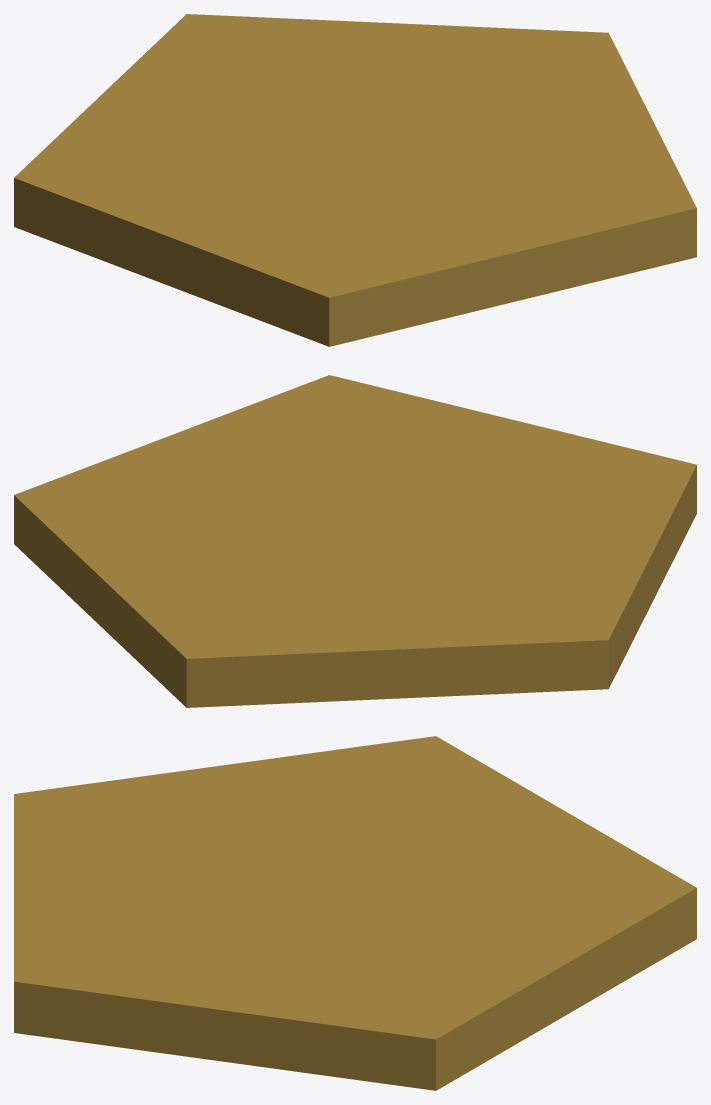
Rendered from capital_star.glb.
3 renders of one model, top to bottom at view 1: azimuth 30°, elevation 25°; view 2: azimuth 150°, elevation 25°; view 3: azimuth 270°, elevation 25°, orthographic. The views are drawn at different scales.
Parts seen in each view (by area): view 1: capital_star; view 2: capital_star; view 3: capital_star.
Part boxes in pixels (x1,y1,x2,y2): capital_star: [14, 14, 696, 346]; capital_star: [14, 375, 696, 707]; capital_star: [14, 736, 696, 1090].
Size of the model in its own units: 0.7608 by 0.06 by 0.7236.
